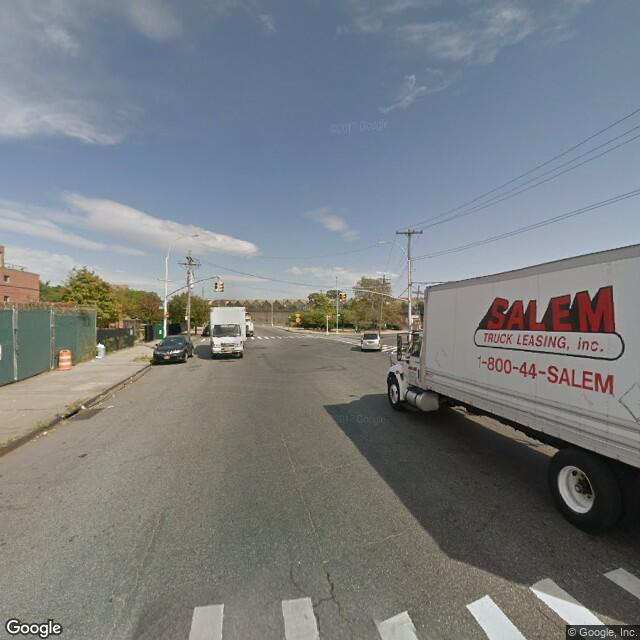litter: (80, 403, 89, 412), (41, 427, 47, 438)
